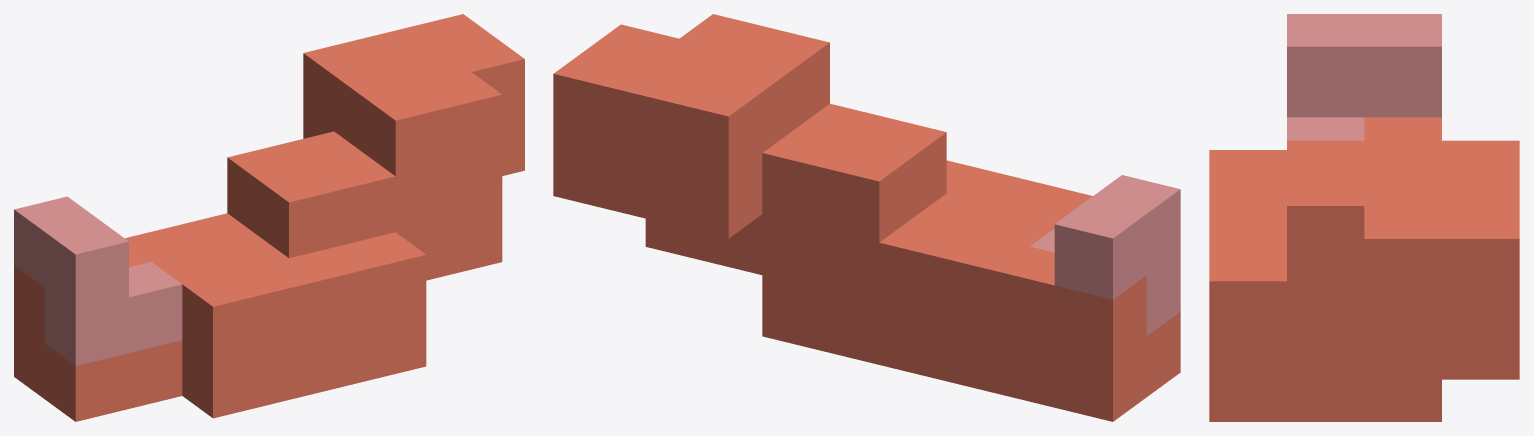
Rendered from octopus__arm_7.glb.
3 views of the same model, side by side, from view 1: azimuth 30°, elevation 25°; view 2: azimuth 150°, elevation 25°; view 3: azimuth 270°, elevation 25° (orthographic). The views are drawn at different scales.
Parts seen in each view (by area): view 1: octopus__arm_7; view 2: octopus__arm_7; view 3: octopus__arm_7.
Boxes of the visible parts, x1,y1,x2,y2 form: octopus__arm_7: (14,14,524,421); octopus__arm_7: (553,14,1180,421); octopus__arm_7: (1209,14,1519,421).
Size of the model in its own units: 0.9 by 0.4 by 0.4.
1 material, 1 textured.
